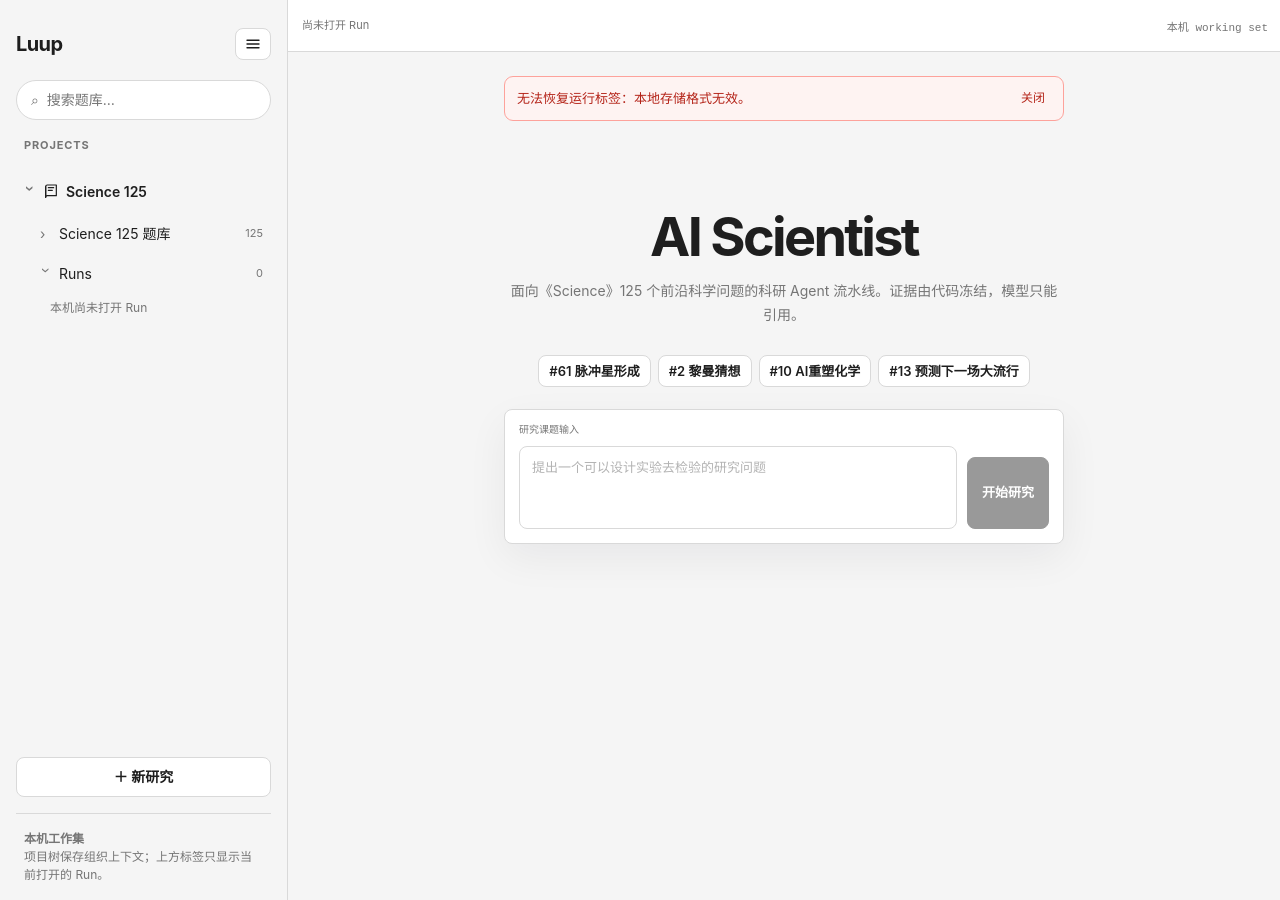
Test case: Home shell flows › 题库开跑创建 run；持久化错误横幅可关闭
Expected: the message with test id "error-banner" shows "无法恢复运行标签", [517, 90, 751, 106]
Click the button "关闭" at (1033, 98), box [1015, 89, 1051, 108]
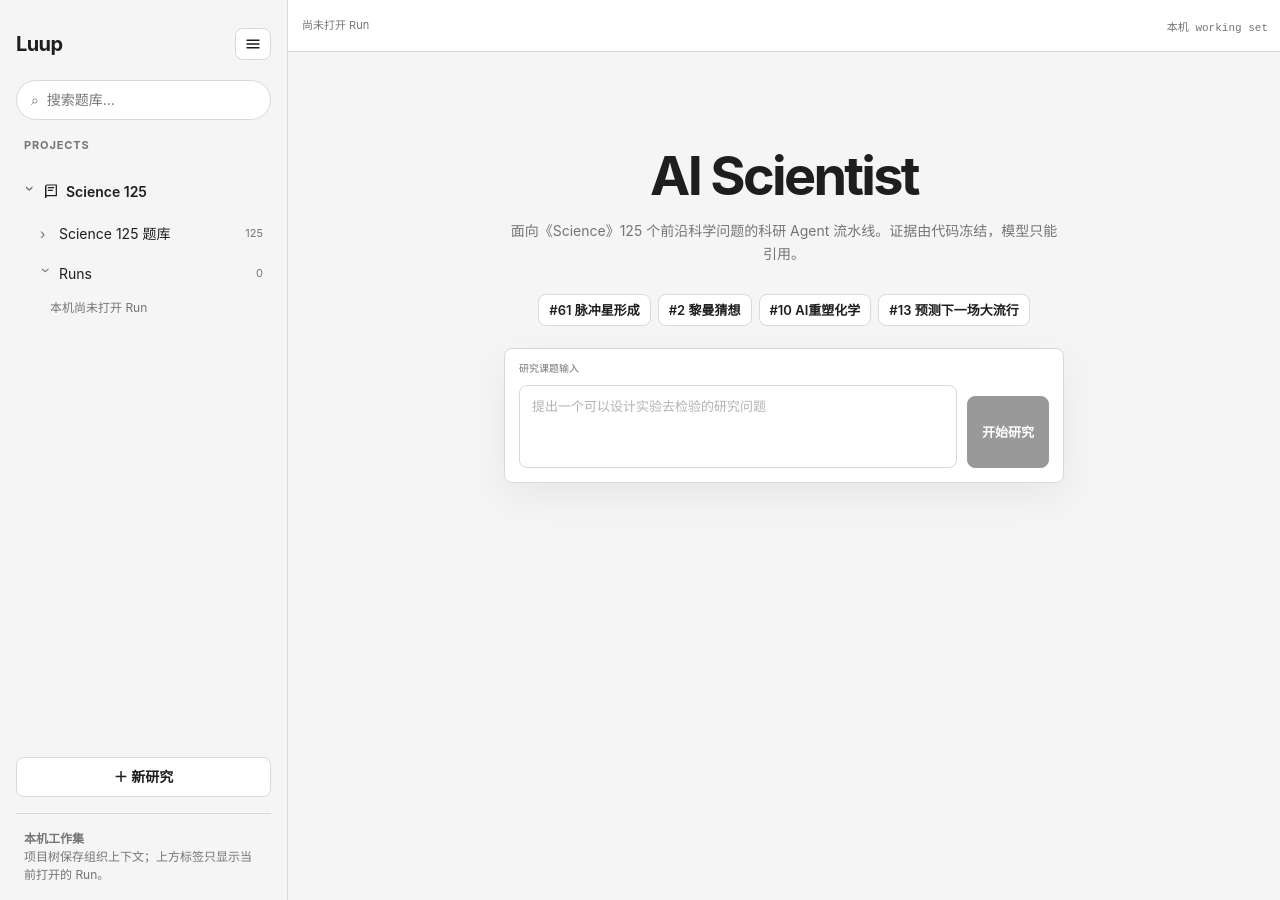
Result: the message with test id "error-banner" is gone
Click the button "› Science 125 题库 125" at (152, 233), box [32, 213, 271, 253]
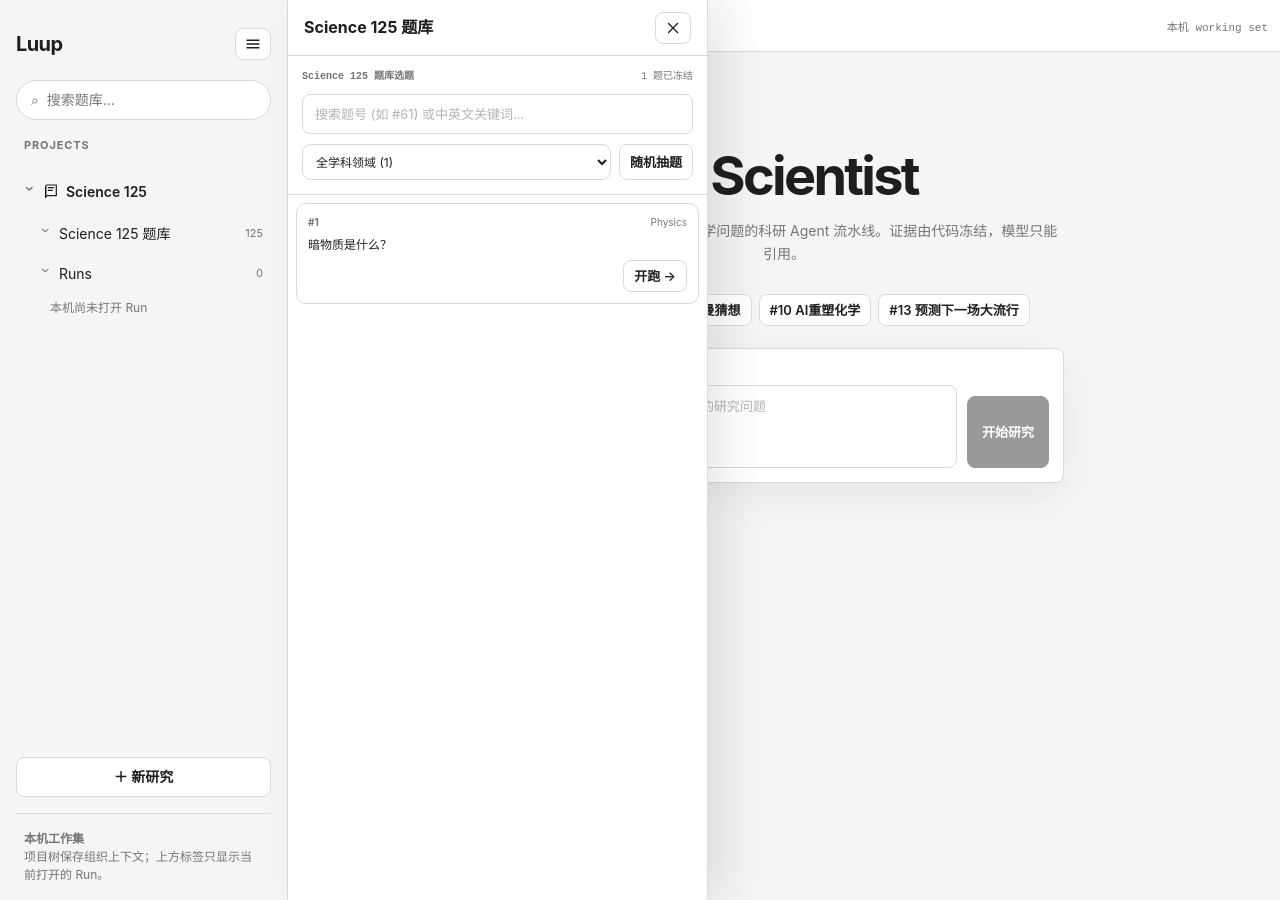
Click the button "开跑 →" at (655, 276), box [623, 260, 687, 292]
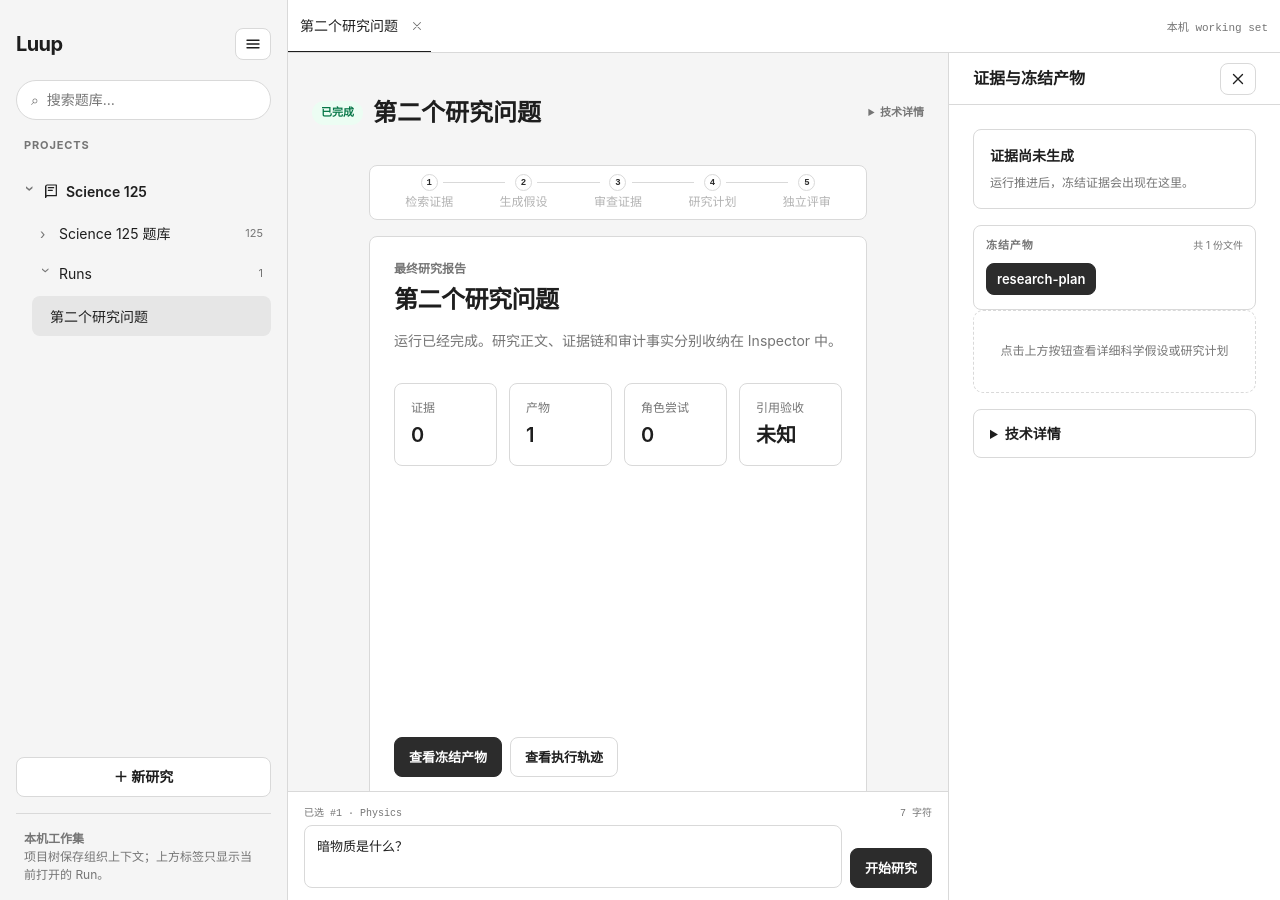
Result: the 2nd text "第二个研究问题" is shown at [50, 307, 148, 326]
